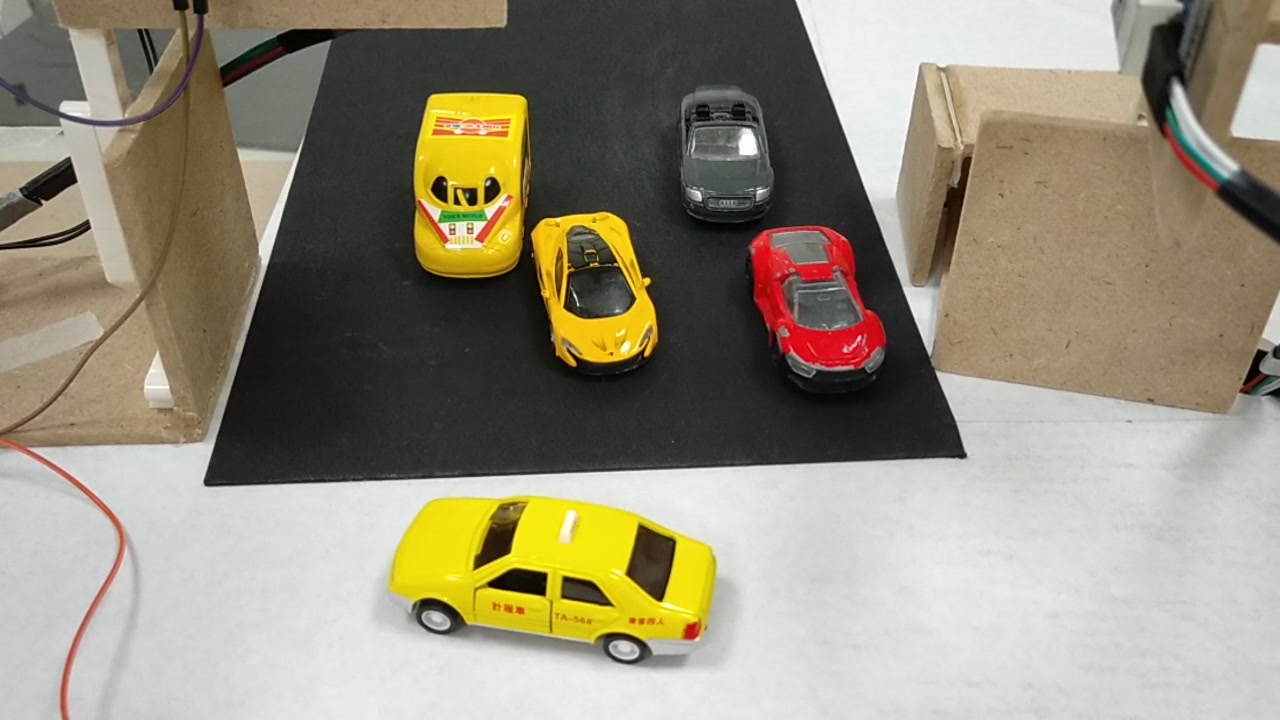car: (386, 497, 720, 670), (747, 224, 886, 395), (530, 213, 666, 381), (674, 95, 777, 220)
